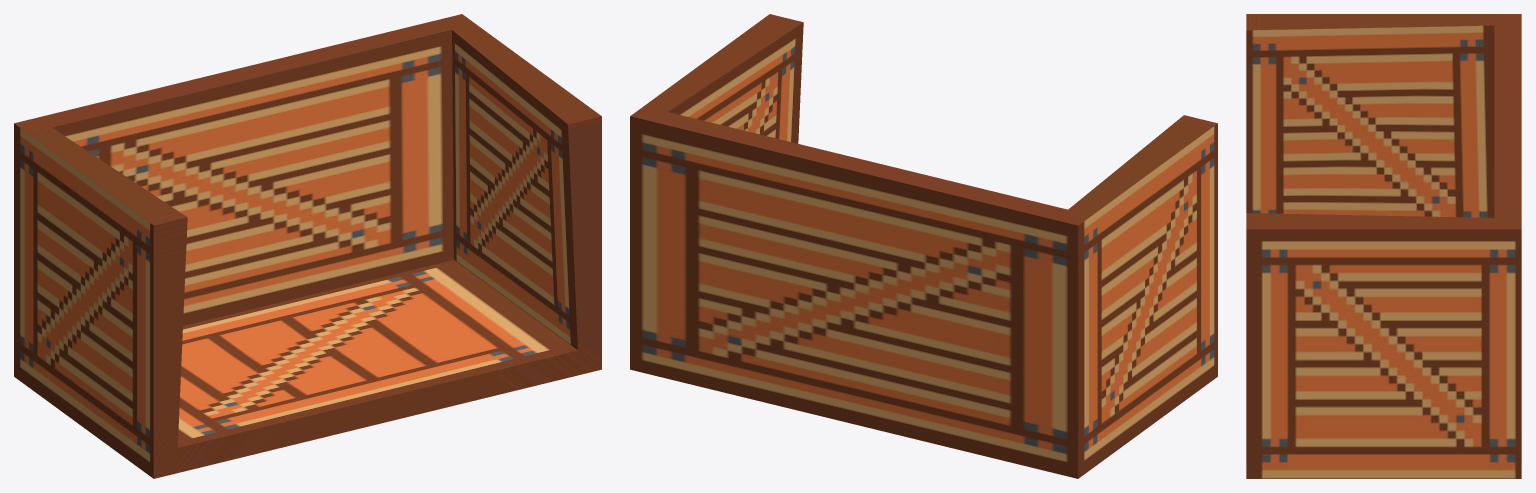
File: crate.fbx
The picture shows the model from 3 angles, left to right: view 1: azimuth 30°, elevation 25°; view 2: azimuth 150°, elevation 25°; view 3: azimuth 270°, elevation 25°; orthographic projection.
Parts seen in each view (by area): view 1: Cube; view 2: Cube; view 3: Cube.
Boxes of the visible parts, left/top/right/bottom form: Cube: left=14, top=14, right=601, bottom=478; Cube: left=630, top=14, right=1217, bottom=478; Cube: left=1246, top=14, right=1521, bottom=478.
Bounding box in the file's own units: 729 × 394 × 394.
Materials: 1 (1 with a texture image).
